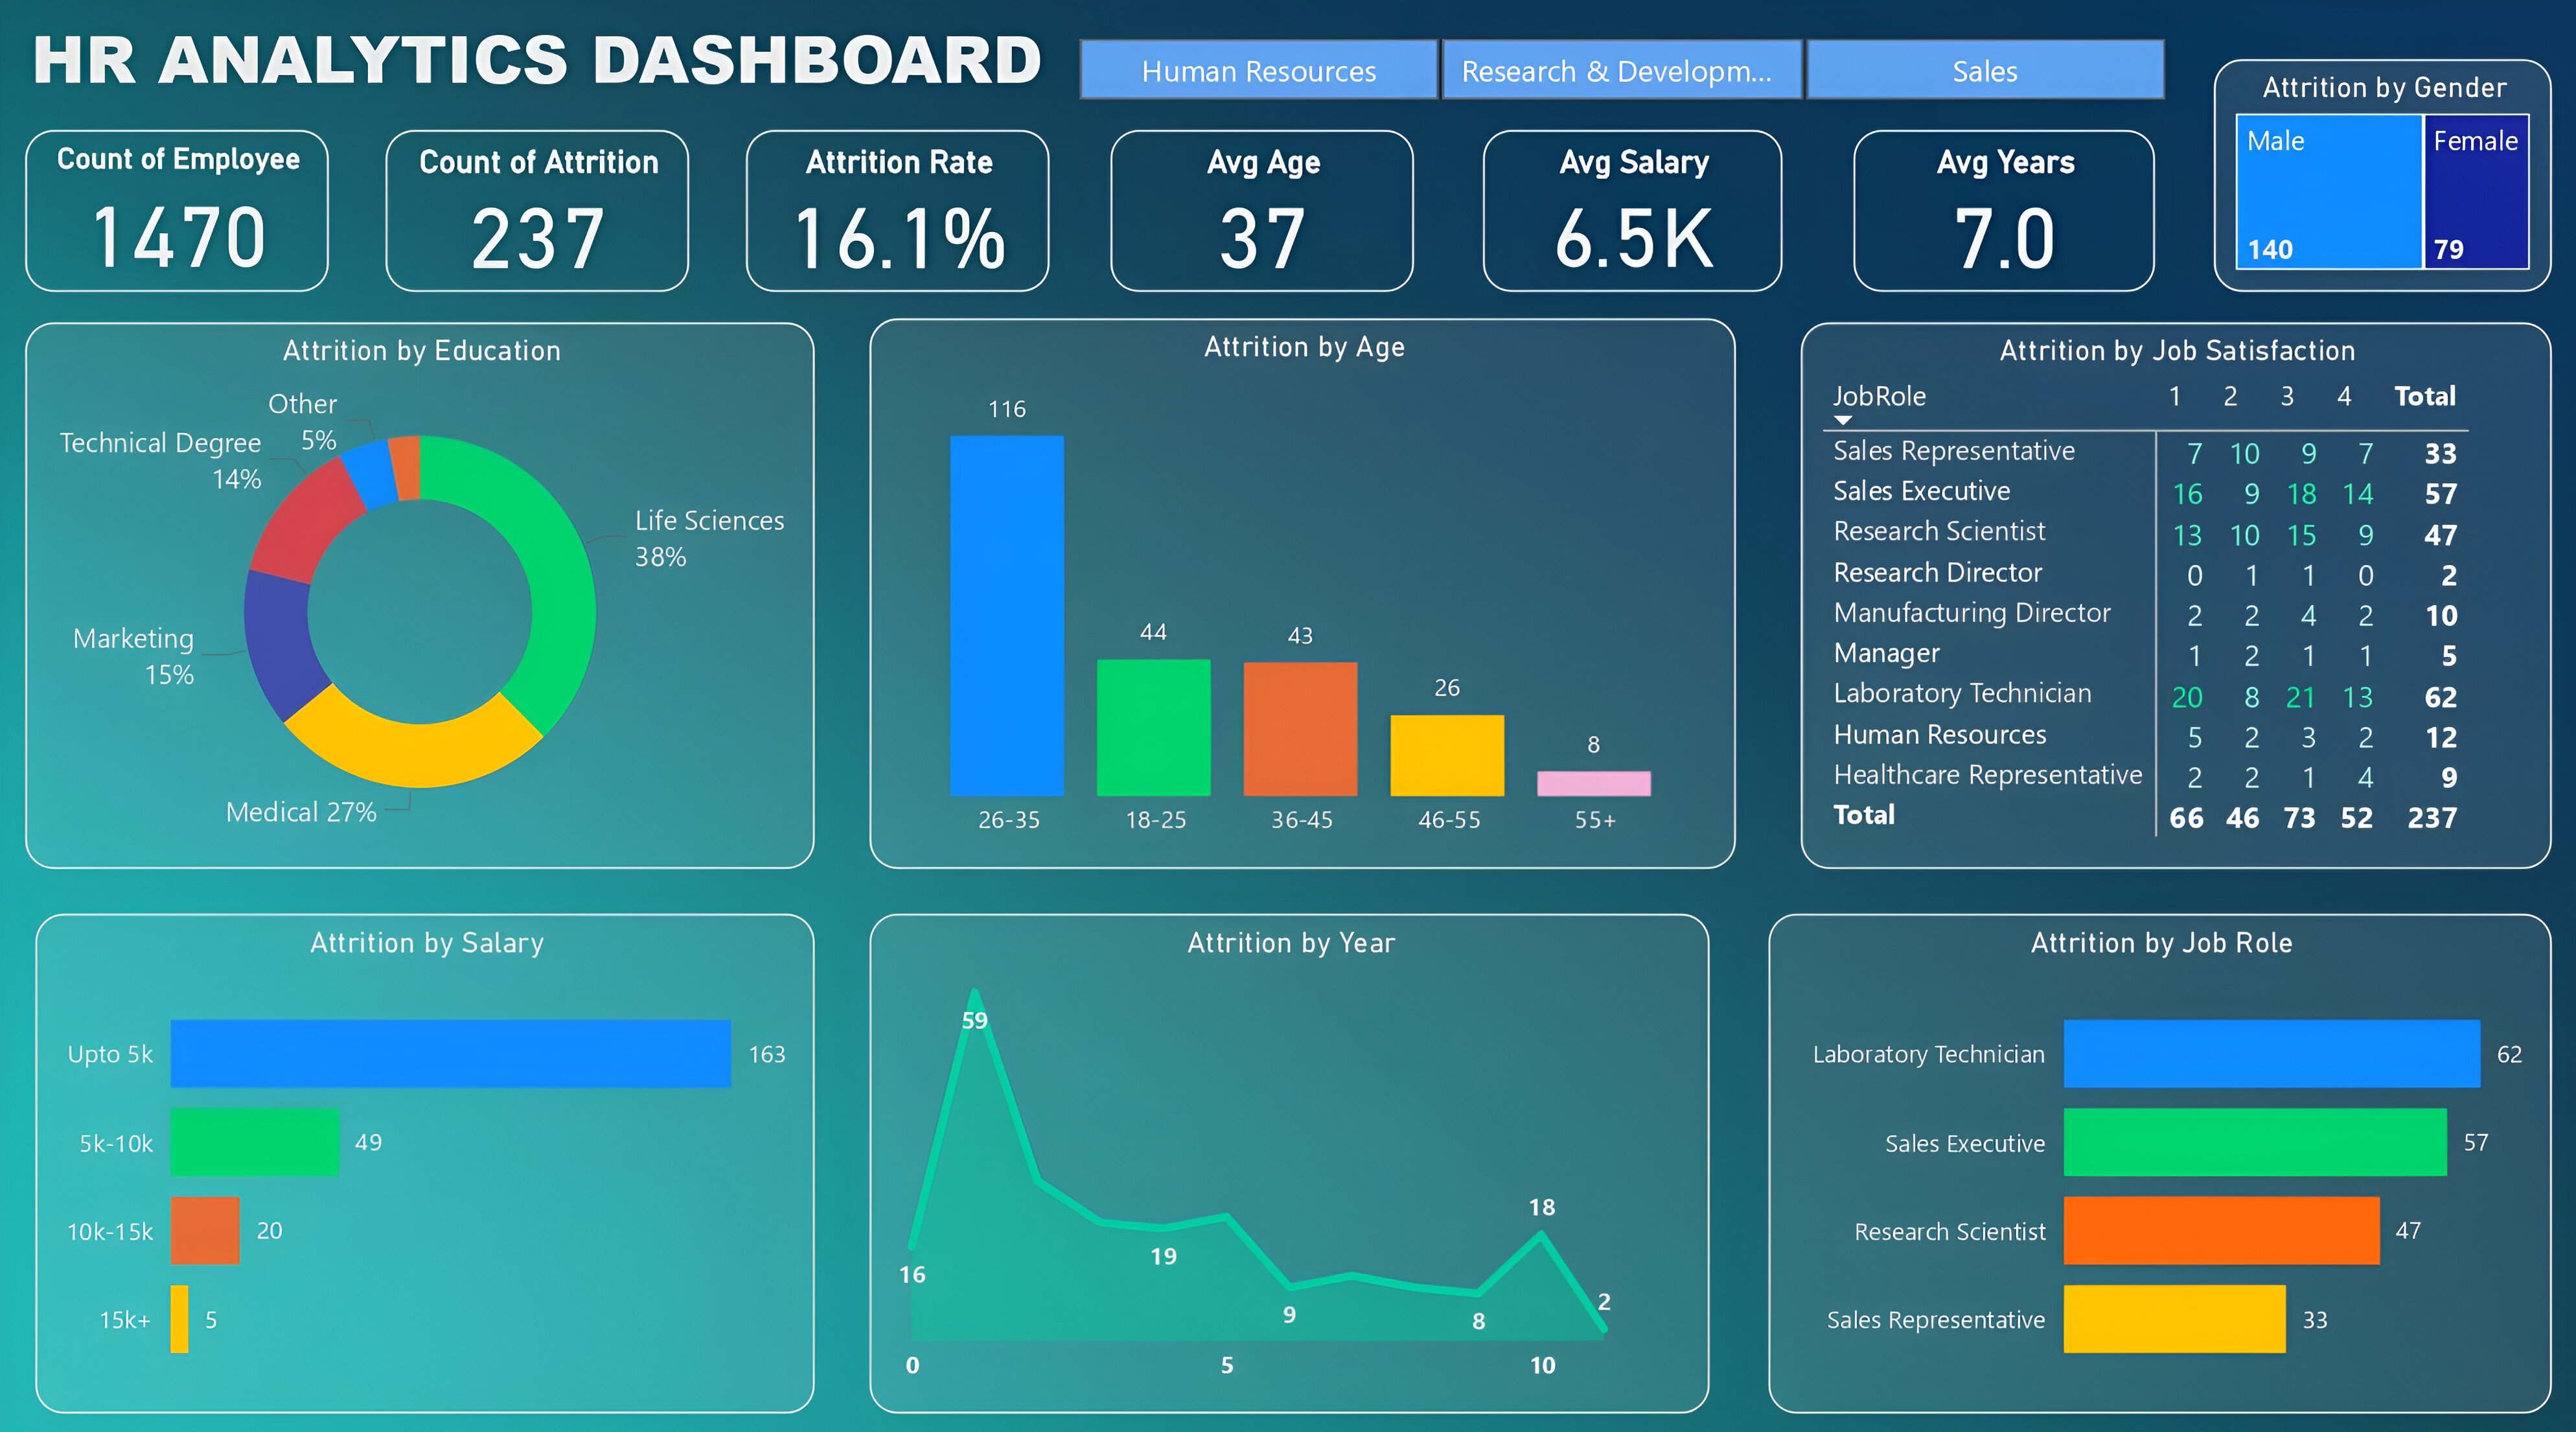

What the dashboard file says about the page in this screenshot:
{"tool":"powerbi","page":{"name":"Page 1","canvas":[1280,720],"ordinal":0},"visuals":[{"type":"card","title":"Count of Employee","fields":{"Values":["CountNonNull(HR_Analytics.EmpID)"]},"box":[15.9,68.9,150,80],"z":0},{"type":"card","title":"Count of Attrition","fields":{"Values":["Sum(HR_Analytics.Attrition_Count)"]},"box":[193.7,68.9,150,80],"z":1000},{"type":"card","title":"Attrition Rate","fields":{"Values":["HR_Analytics.Attrition_Rate"]},"box":[372.2,68.9,150,80],"z":2000},{"type":"card","title":"Avg Age ","fields":{"Values":["Avg(HR_Analytics.Age)"]},"box":[552.2,68.9,150,80],"z":3000},{"type":"card","title":"Avg Salary","fields":{"Values":["Avg(HR_Analytics.MonthlyIncome)"]},"box":[735.6,68.9,148.9,80],"z":4000},{"type":"card","title":"Avg Years","fields":{"Values":["Avg(HR_Analytics.YearsAtCompany)"]},"box":[918.9,68.9,148.9,80],"z":5000},{"type":"donutChart","title":"Attrition by Education","fields":{"Category":["HR_Analytics.EducationField"],"Y":["Sum(HR_Analytics.Attrition_Count)"]},"box":[15.6,164.4,390,270],"z":6000},{"type":"columnChart","title":"Attrition by Age","fields":{"Category":["HR_Analytics.AgeGroup"],"Y":["Sum(HR_Analytics.Attrition_Count)"]},"box":[433.3,162.2,427.8,272.2],"z":7000},{"type":"pivotTable","title":"Attrition by Job Satisfaction","fields":{"Rows":["HR_Analytics.JobRole"],"Columns":["HR_Analytics.JobSatisfaction"],"Values":["Sum(HR_Analytics.Attrition_Count)"]},"box":[893.3,164.4,371.1,270],"z":8000},{"type":"barChart","title":"Attrition by Salary","fields":{"Category":["HR_Analytics.SalarySlab"],"Y":["Sum(HR_Analytics.Attrition_Count)"]},"box":[21.1,455.6,384.4,247.8],"z":9000},{"type":"barChart","title":"Attrition by Job Role","fields":{"Y":["Sum(HR_Analytics.Attrition_Count)"],"Category":["HR_Analytics.JobRole"]},"box":[876.7,455.6,387.8,247.8],"z":10000},{"type":"areaChart","title":"Attrition by Year","fields":{"Category":["HR_Analytics.YearsAtCompany"],"Y":["Sum(HR_Analytics.Attrition_Count)"]},"box":[433.3,455.6,414.4,247.8],"z":11000},{"type":"treemap","title":"Attrition by Gender","fields":{"Group":["HR_Analytics.Gender"],"Values":["Sum(HR_Analytics.Attrition_Count)"]},"box":[1096.7,34.4,167.8,114.4],"z":12000},{"type":"slicer","fields":{"Values":["HR_Analytics.Department"]},"box":[511.4,16.6,585.2,44.7],"z":13000},{"type":"textbox","box":[7.8,5.6,522.2,57.8],"z":14000}]}

Visuals, with their boxes in screenshot pixels (x1, y1, x2, y2), scaled from the page's 1280x720 canvas onto the 2576x1432 screenshot:
"Count of Employee" card: rect(32, 137, 334, 296)
"Count of Attrition" card: rect(390, 137, 692, 296)
"Attrition Rate" card: rect(749, 137, 1051, 296)
"Avg Age " card: rect(1111, 137, 1413, 296)
"Avg Salary" card: rect(1480, 137, 1780, 296)
"Avg Years" card: rect(1849, 137, 2149, 296)
"Attrition by Education" donutChart: rect(31, 327, 816, 864)
"Attrition by Age" columnChart: rect(872, 323, 1733, 864)
"Attrition by Job Satisfaction" pivotTable: rect(1798, 327, 2545, 864)
"Attrition by Salary" barChart: rect(43, 906, 816, 1399)
"Attrition by Job Role" barChart: rect(1764, 906, 2545, 1399)
"Attrition by Year" areaChart: rect(872, 906, 1706, 1399)
"Attrition by Gender" treemap: rect(2207, 69, 2545, 296)
slicer - HR_Analytics.Department: rect(1029, 33, 2207, 122)
textbox: rect(16, 11, 1066, 126)
